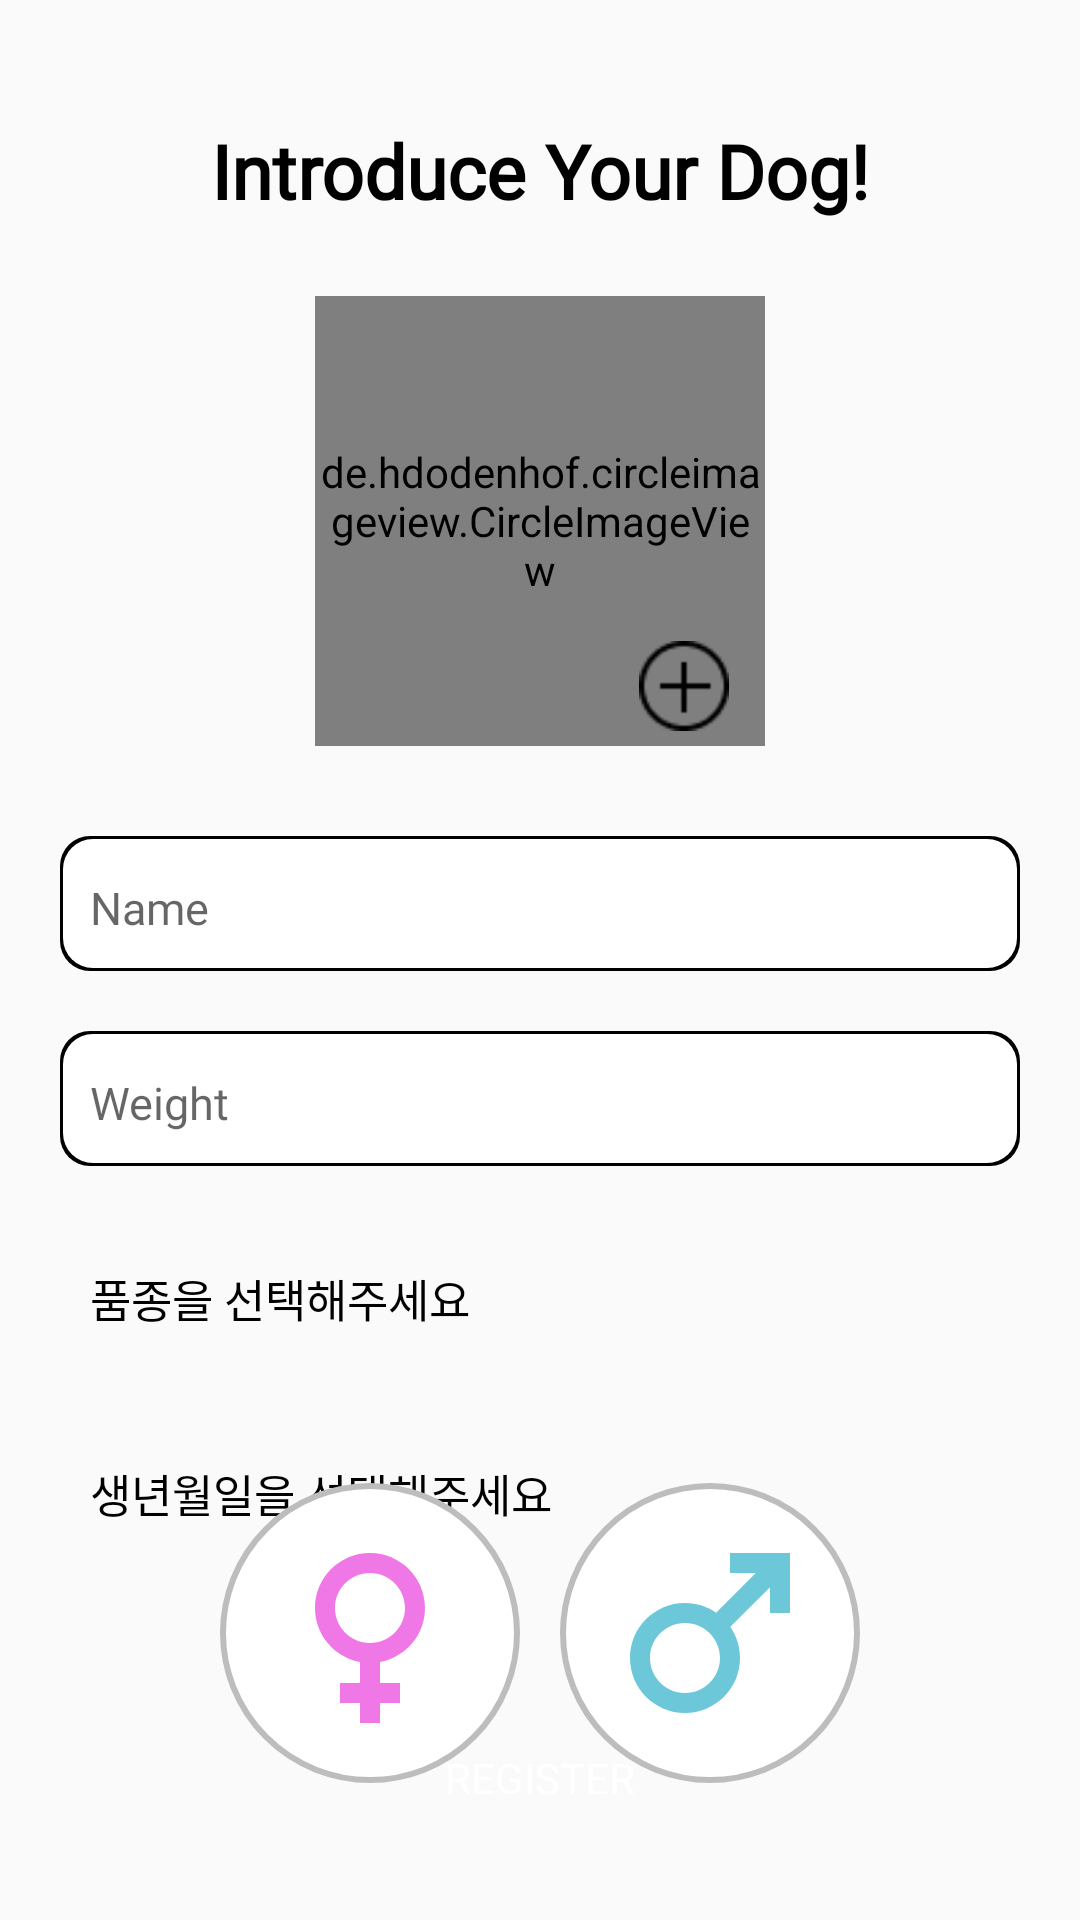

Screen size 1080*1920. Icon name, then its center in pixels as point (x, y):
female: point (357, 1603)
male: point (710, 1633)
